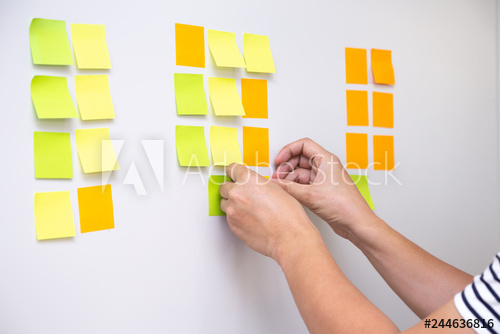stickynote: (28, 72, 81, 122), (31, 187, 78, 242), (31, 128, 77, 182), (27, 16, 74, 68), (75, 183, 118, 237), (74, 73, 117, 123), (69, 21, 112, 71), (73, 126, 116, 175), (206, 25, 247, 73), (207, 75, 247, 120), (173, 122, 210, 170), (172, 21, 208, 70), (173, 70, 209, 118), (241, 30, 278, 76), (208, 123, 243, 169), (240, 76, 271, 122), (240, 124, 271, 169), (369, 44, 397, 88), (343, 45, 370, 87), (370, 90, 397, 132), (344, 87, 371, 128), (371, 133, 398, 174), (343, 131, 368, 171)
